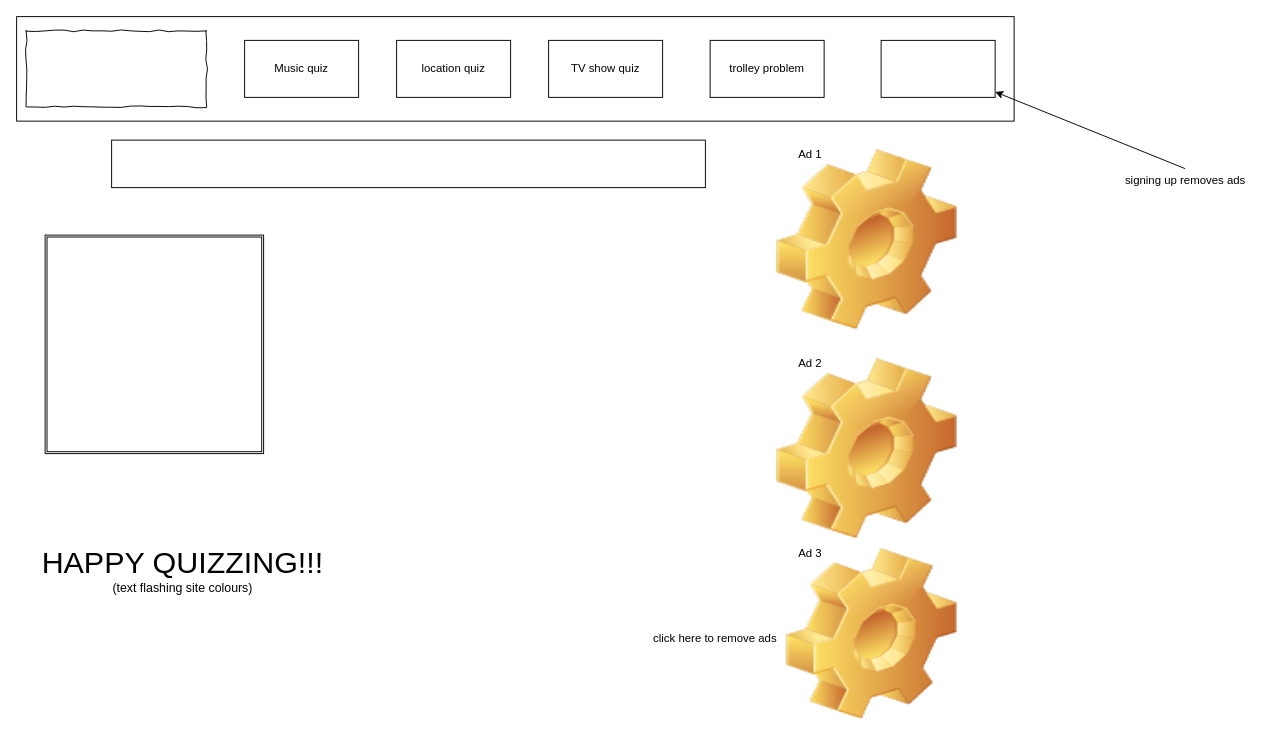
Image size: 1273x736. Some labels were removed from this diagram. Here are the shapes that lost their labels. From the top down, the box of each, then its label:
(25, 30, 207, 107): QuizMaster (take to home)
(880, 39, 995, 97): remove ads
(111, 139, 705, 188): About the website
(44, 234, 264, 454): video here of me explaining it
